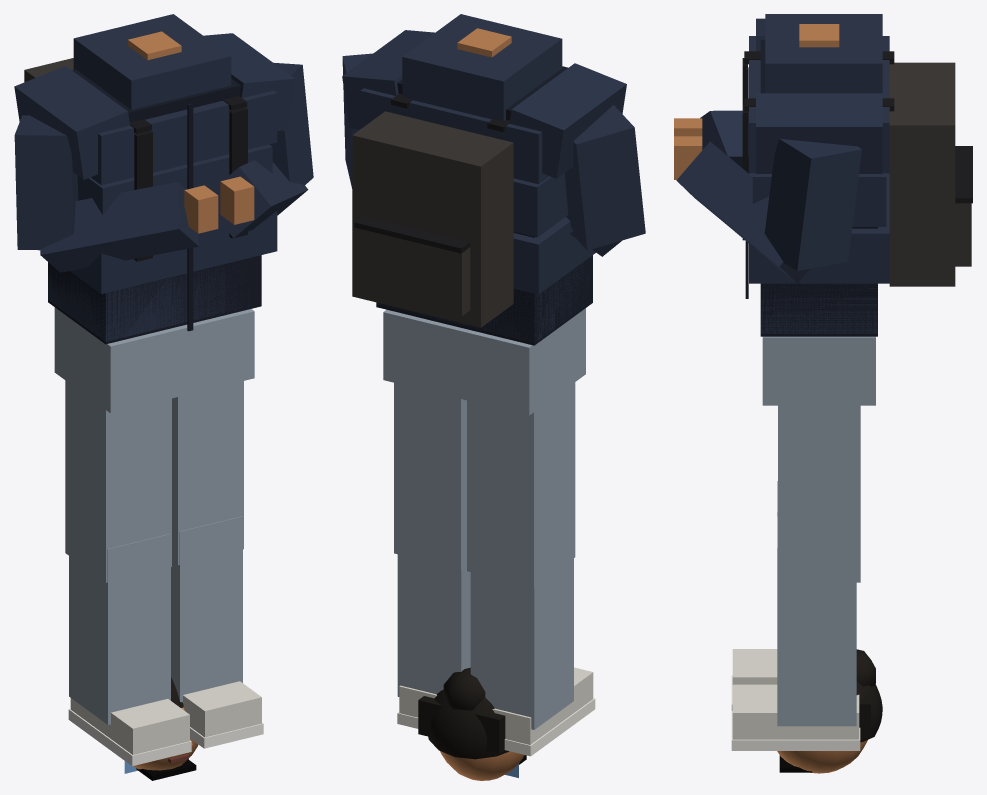
Rendered from passenger_texter_standing.fbx.
3 renders of one model, left to right at view 1: azimuth 30°, elevation 25°; view 2: azimuth 150°, elevation 25°; view 3: azimuth 270°, elevation 25°, orthographic.
Visible parts, largest first — view 1: Mesh_13, Mesh_12, Mesh_11, Mesh_14, Body_Skin, Mesh_16, Mesh_15, Head_Skin, Mesh_4; view 2: Mesh_13, Mesh_12, Mesh_17, Mesh_11, Mesh_8, Mesh_14, Mesh_16, Head_Skin, Mesh_15, Body_Skin; view 3: Mesh_12, Mesh_13, Mesh_17, Mesh_11, Mesh_14, Body_Skin, Mesh_16, Mesh_8, Mesh_15, Head_Skin.
Boxes of the visible parts, x1=… form: Mesh_13: x1=54, y1=307, x2=254, y2=724; Mesh_12: x1=14, y1=14, x2=313, y2=341; Mesh_11: x1=48, y1=69, x2=261, y2=344; Mesh_14: x1=70, y1=681, x2=261, y2=754; Body_Skin: x1=128, y1=31, x2=254, y2=233; Mesh_16: x1=130, y1=96, x2=247, y2=261; Mesh_15: x1=68, y1=709, x2=263, y2=766; Head_Skin: x1=133, y1=707, x2=198, y2=770; Mesh_4: x1=136, y1=759, x2=196, y2=780; Mesh_13: x1=383, y1=308, x2=585, y2=729; Mesh_12: x1=342, y1=14, x2=645, y2=342; Mesh_17: x1=352, y1=111, x2=513, y2=327; Mesh_11: x1=376, y1=66, x2=592, y2=345; Mesh_8: x1=418, y1=667, x2=509, y2=759; Mesh_14: x1=399, y1=667, x2=593, y2=744; Mesh_16: x1=354, y1=93, x2=509, y2=253; Head_Skin: x1=440, y1=751, x2=524, y2=780; Mesh_15: x1=397, y1=698, x2=595, y2=756; Body_Skin: x1=457, y1=28, x2=511, y2=57; Mesh_12: x1=676, y1=14, x2=889, y2=333; Mesh_13: x1=762, y1=336, x2=875, y2=726; Mesh_17: x1=889, y1=62, x2=971, y2=286; Mesh_11: x1=745, y1=40, x2=877, y2=336; Mesh_14: x1=732, y1=649, x2=859, y2=739; Body_Skin: x1=674, y1=24, x2=839, y2=179; Mesh_16: x1=742, y1=51, x2=972, y2=240; Mesh_8: x1=856, y1=649, x2=882, y2=742; Mesh_15: x1=731, y1=675, x2=860, y2=750; Head_Skin: x1=777, y1=740, x2=867, y2=773.
Bounding box in the file's own units: 0.7405 × 1.74 × 0.6375.
